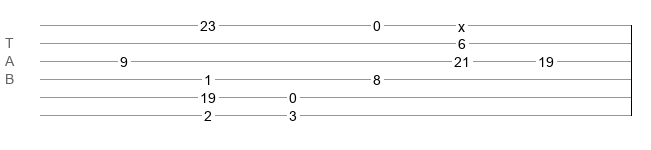0: (289, 90, 297, 100), (373, 18, 381, 28)
1: (204, 72, 212, 82)
19: (200, 90, 216, 100), (538, 54, 554, 64)
2: (204, 108, 212, 118)
21: (454, 54, 470, 64)
23: (200, 18, 216, 28)
3: (289, 108, 297, 118)
6: (458, 36, 466, 46)
8: (373, 72, 381, 82)
9: (120, 54, 128, 64)
x: (458, 19, 465, 27)
